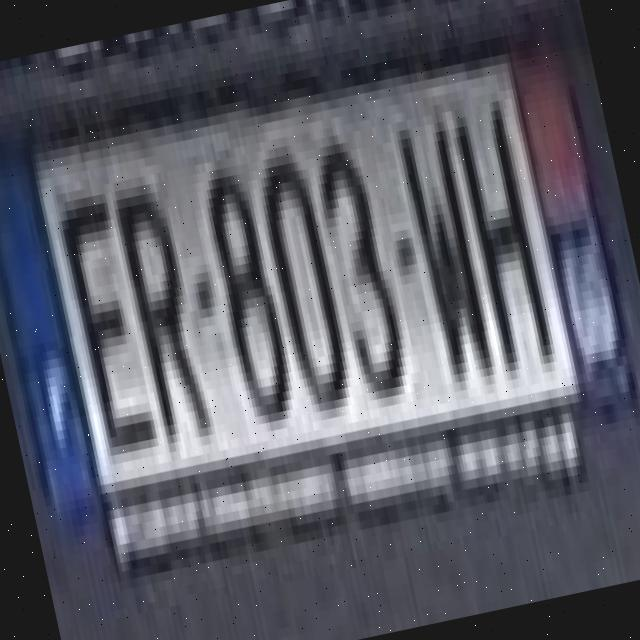Autre: (0, 60, 578, 508)
